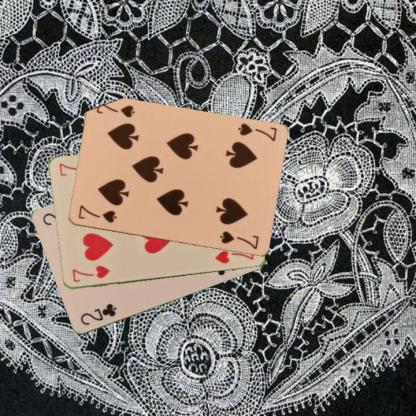2c: (77, 301, 118, 327)
7h: (69, 263, 111, 284)
7s: (75, 202, 118, 225), (235, 120, 278, 142)
